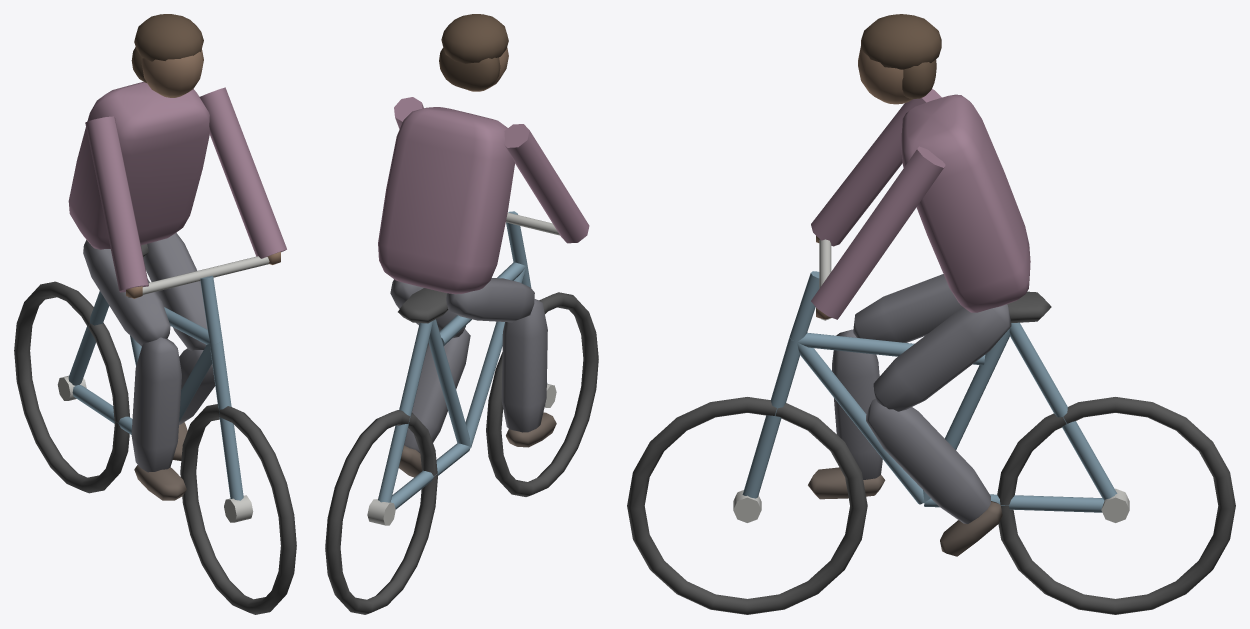
Rendered from cyclist.glb.
3 views of the same model, side by side, from view 1: azimuth 30°, elevation 25°; view 2: azimuth 150°, elevation 25°; view 3: azimuth 270°, elevation 25° (orthographic). The views are drawn at different scales.
Visible parts, largest first — view 1: Part0, Part2, Part1, Part3, Part4; view 2: Part0, Part2, Part4, Part1, Part3; view 3: Part0, Part4, Part3, Part2, Part1.
Boxes of the visible parts, box(x1,y1,x2,y2) form: Part0: box(14, 14, 296, 614); Part2: box(131, 337, 186, 500); Part1: box(83, 240, 170, 346); Part3: box(143, 232, 207, 351); Part4: box(172, 348, 215, 460); Part0: box(325, 14, 598, 614); Part2: box(501, 299, 556, 447); Part4: box(399, 329, 470, 477); Part1: box(446, 278, 534, 322); Part3: box(390, 279, 465, 338); Part0: box(627, 14, 1235, 614); Part4: box(866, 399, 1002, 556); Part3: box(873, 304, 1011, 411); Part2: box(808, 329, 885, 499); Part1: box(853, 274, 963, 342).
Bounding box in the file's own units: 0.5986 × 1.86 × 1.72.
